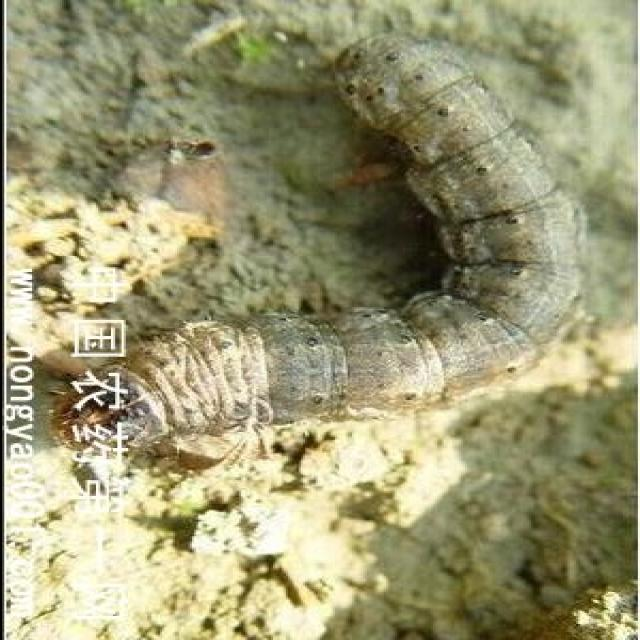black cutworm: (57, 37, 594, 472)
